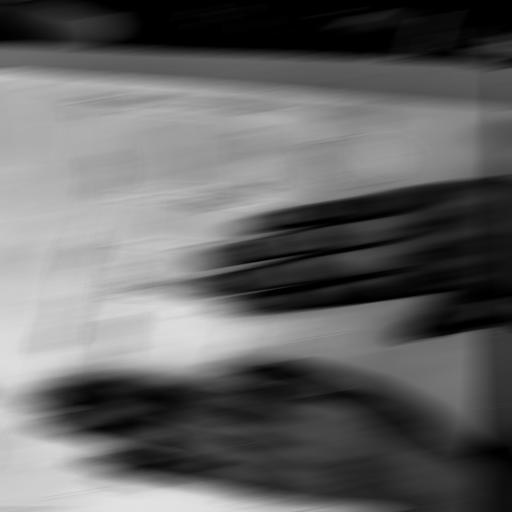bus: (2, 85, 415, 512)
